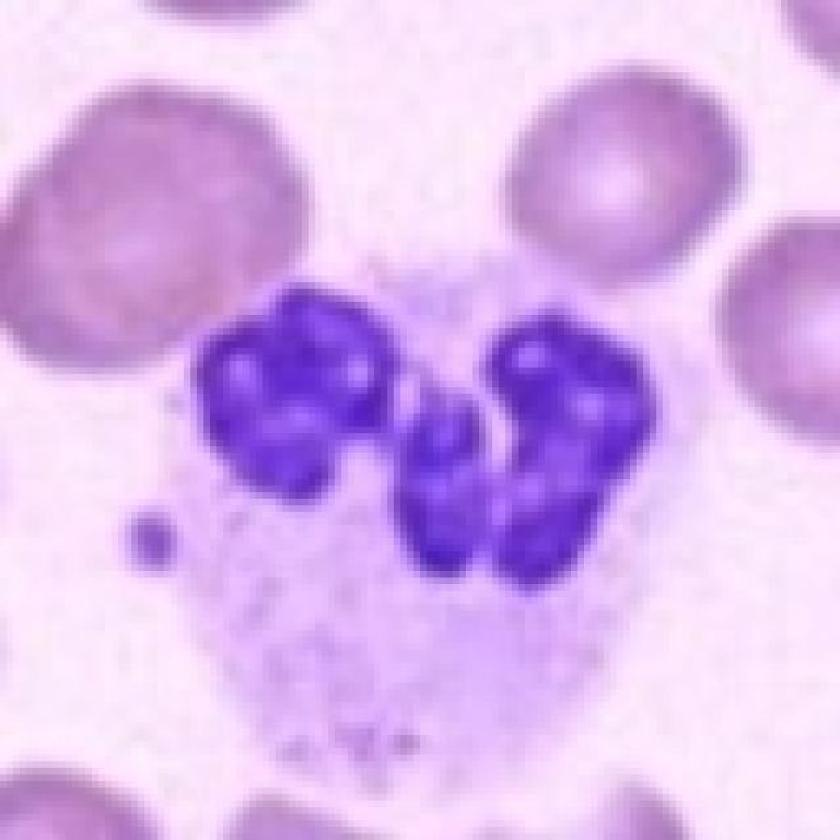neutrophil: (147, 249, 710, 811)
